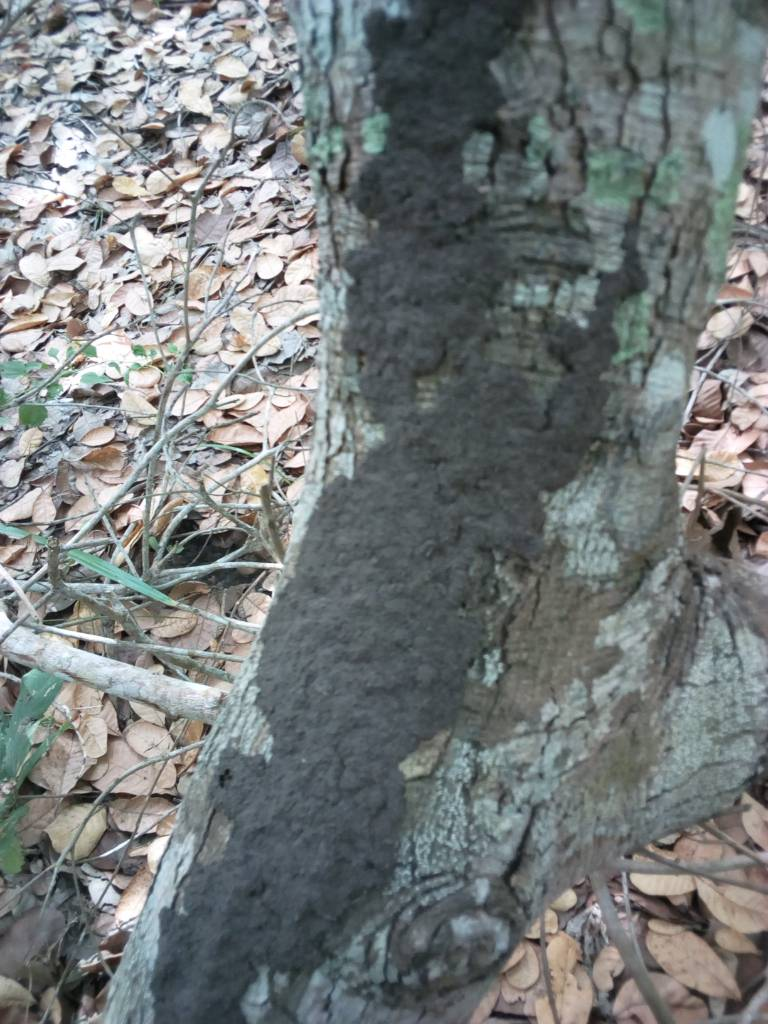Termites: (355, 5, 519, 894), (150, 711, 352, 1024)
